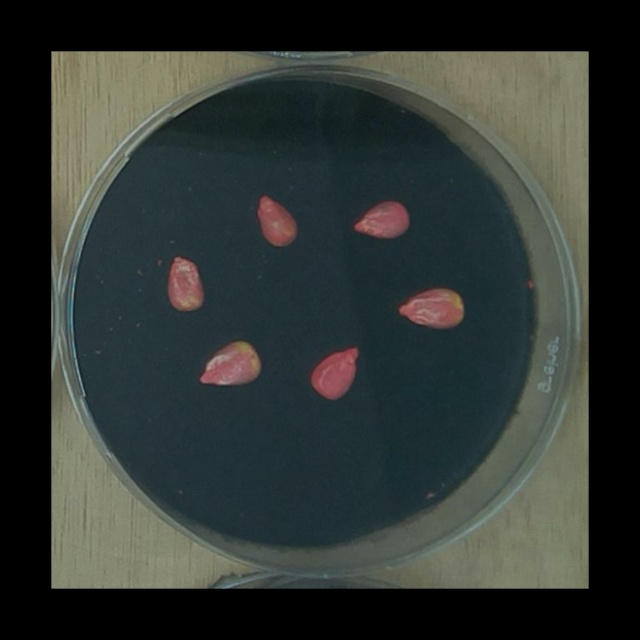Zea mays: (392, 281, 470, 335), (194, 334, 266, 391), (304, 340, 364, 405), (347, 194, 415, 246), (161, 250, 210, 318), (251, 189, 302, 254)
